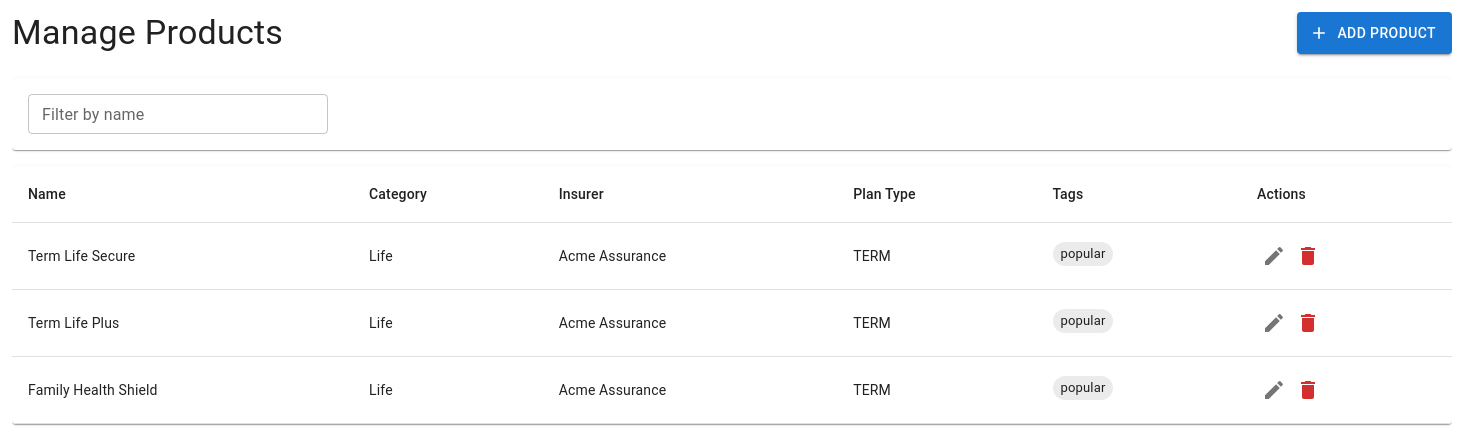
ProductManagement name filter › restores the full list when the filter is cleared
The width and height of the screenshot is (1464, 443).
Check: the text "Family Health Shield" is shown, box [12,356,353,424]
Type "Plus" into the field labelled "Filter by name".
click(178, 114); type("Plus")  # box [28,94,328,134]
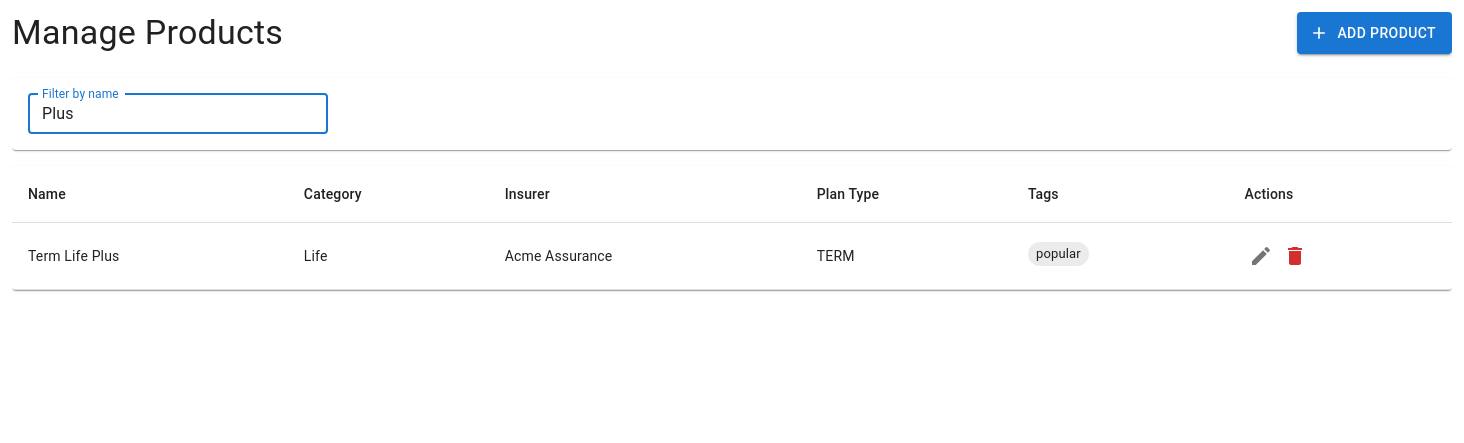
Check: the text "Family Health Shield" is gone
Clear the field labelled "Filter by name" at (178,114), box [28,94,328,134]
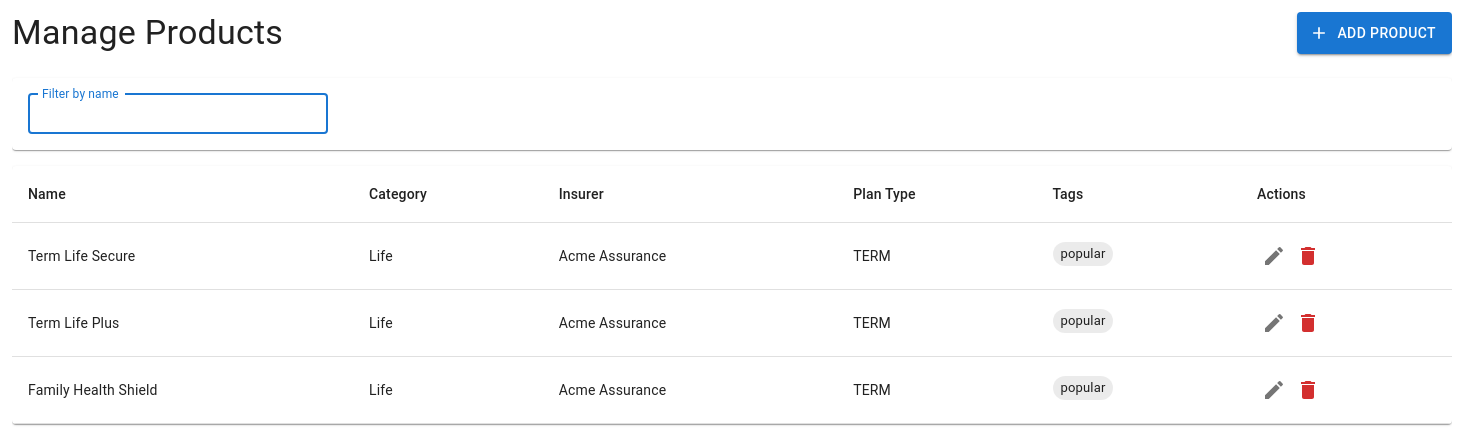
Check: the text "Term Life Plus" is shown, box [12,290,353,356]
Check: the text "Family Health Shield" is shown, box [12,356,353,424]
Check: the text "Term Life Secure" is shown, box [12,222,353,290]
